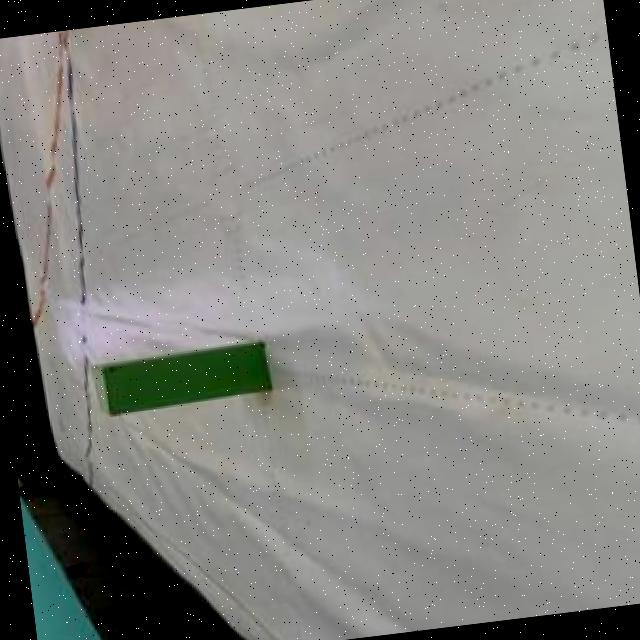greenbox: (86, 337, 276, 420)
